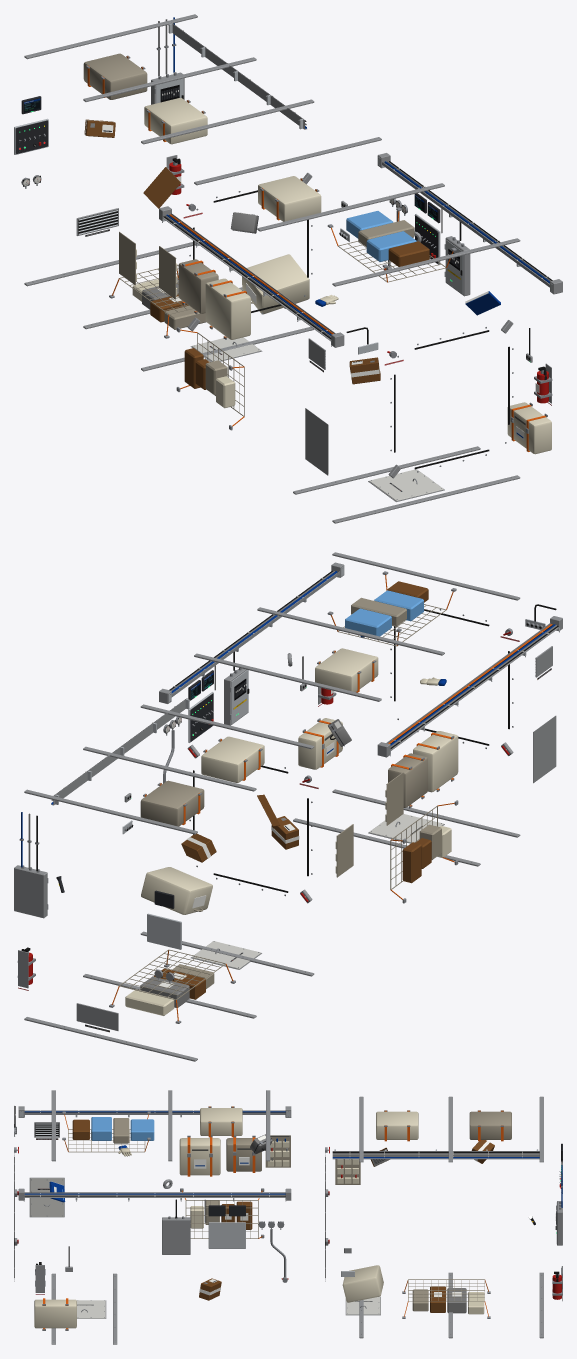
File: Ambientacion_Colonia_y_Carguero.fbx
3 views of the same model, one above another, from view 1: azimuth 30°, elevation 25°; view 2: azimuth 150°, elevation 25°; view 3: azimuth 270°, elevation 25° (orthographic). The views are drawn at different scales.
Visible parts, largest first — view 1: C_Det_Ambientacion, C_Bulto_5, C_Bulto_4, C_Flot_Bolsa_6, C_Bulto_2, C_Bulto_6, C_Bulto_8, C_Bulto_9, C_Bulto_7, C_Bulto_1, C_Bulto_3, C_Pantalla_Sistemas (+2 smaller); view 2: C_Det_Ambientacion, C_Bulto_9, C_Bulto_5, C_Bulto_4, C_Bulto_7, C_Bulto_8, C_Flot_Bolsa_6, C_Bulto_6, C_Bulto_2, C_Bulto_1, C_Bulto_3, C_Flot_Paquete_7 (+2 smaller); view 3: C_Det_Ambientacion, C_Bulto_5, C_Bulto_9, C_Bulto_2, C_Bulto_4, C_Bulto_1, C_Bulto_8, C_Bulto_7, C_Bulto_6, C_Flot_Bolsa_6, C_Bulto_3, C_Flot_Paquete_1.
Boxes of the visible parts, x1,y1,x2,y2 form: C_Det_Ambientacion: (14, 14, 562, 523); C_Bulto_5: (327, 207, 456, 282); C_Bulto_4: (176, 327, 244, 430); C_Flot_Bolsa_6: (242, 254, 309, 314); C_Bulto_2: (205, 278, 250, 339); C_Bulto_6: (258, 176, 321, 221); C_Bulto_8: (83, 53, 147, 99); C_Bulto_9: (109, 265, 205, 338); C_Bulto_7: (144, 98, 207, 144); C_Bulto_1: (507, 402, 551, 454); C_Bulto_3: (178, 259, 218, 314); C_Pantalla_Sistemas: (18, 98, 551, 491); C_Det_Ambientacion: (14, 552, 562, 1061); C_Bulto_9: (109, 949, 235, 1023); C_Bulto_5: (327, 571, 456, 646); C_Bulto_4: (390, 800, 458, 903); C_Bulto_7: (201, 736, 264, 782); C_Bulto_8: (140, 780, 204, 826); C_Flot_Bolsa_6: (141, 867, 212, 914); C_Bulto_6: (315, 648, 378, 692); C_Bulto_2: (413, 731, 458, 792); C_Bulto_1: (298, 718, 342, 769); C_Bulto_3: (388, 753, 427, 808); C_Flot_Paquete_7: (181, 833, 216, 862); C_Det_Ambientacion: (14, 1090, 562, 1344); C_Bulto_5: (62, 1111, 154, 1152); C_Bulto_9: (402, 1279, 490, 1318); C_Bulto_2: (179, 1135, 220, 1176); C_Bulto_4: (180, 1188, 264, 1238); C_Bulto_1: (34, 1298, 76, 1330); C_Bulto_8: (469, 1110, 511, 1141); C_Bulto_7: (376, 1110, 418, 1141); C_Bulto_6: (200, 1106, 242, 1137); C_Flot_Bolsa_6: (342, 1265, 383, 1302); C_Bulto_3: (226, 1135, 261, 1172); C_Flot_Paquete_1: (199, 1278, 221, 1300).
Size of the model in its own units: 2.4 by 2.4 by 6.46.
